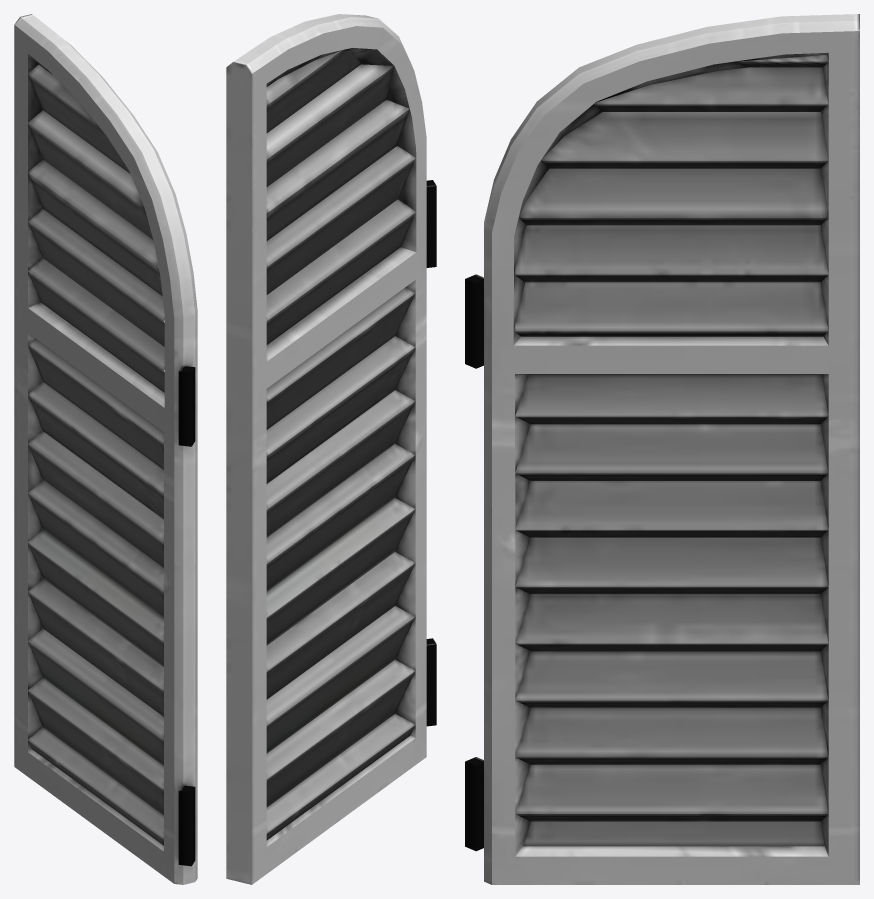
3 views of the same model, side by side, from view 1: azimuth 30°, elevation 25°; view 2: azimuth 150°, elevation 25°; view 3: azimuth 270°, elevation 25° (orthographic). The views are drawn at different scales.
Visible parts, largest first — view 1: body0_model0_lod0_mesh0; view 2: body0_model0_lod0_mesh0; view 3: body0_model0_lod0_mesh0.
Boxes of the visible parts, left/top/right/bottom form: body0_model0_lod0_mesh0: left=14, top=14, right=197, bottom=884; body0_model0_lod0_mesh0: left=226, top=14, right=436, bottom=884; body0_model0_lod0_mesh0: left=465, top=14, right=859, bottom=884.
Size of the model in its own units: 4.41 by 121 by 50.41.
1 material, 1 textured.
